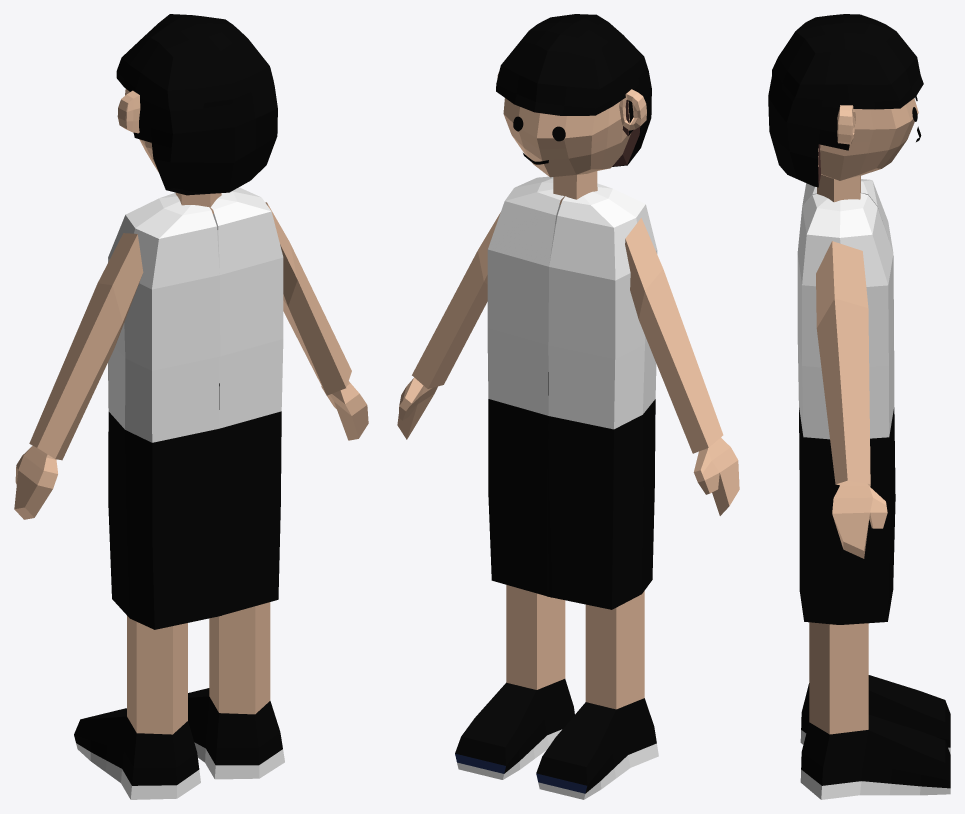
Rendered from student04(touch).fbx.
3 views of the same model, side by side, from view 1: azimuth 30°, elevation 25°; view 2: azimuth 150°, elevation 25°; view 3: azimuth 270°, elevation 25° (orthographic). The views are drawn at different scales.
Visible parts, largest first — view 1: Lec_body, Lec_leg, Lec_hair, Lec_arm, Lec_ear; view 2: Lec_body, Lec_leg, Lec_arm, Lec_hair, Lec_head, Lec_neck, Lec_ear; view 3: Lec_body, Lec_leg, Lec_hair, Lec_arm, Lec_head, Lec_neck, Lec_ear.
Part boxes in pixels (bbox=[...]): Lec_body: bbox=[108, 187, 283, 629]; Lec_leg: bbox=[74, 602, 284, 799]; Lec_hair: bbox=[116, 14, 277, 195]; Lec_arm: bbox=[14, 202, 368, 519]; Lec_ear: bbox=[117, 90, 140, 133]; Lec_body: bbox=[487, 176, 657, 609]; Lec_leg: bbox=[455, 585, 658, 799]; Lec_arm: bbox=[397, 212, 739, 515]; Lec_hair: bbox=[496, 14, 651, 166]; Lec_head: bbox=[503, 98, 640, 177]; Lec_neck: bbox=[553, 171, 597, 204]; Lec_ear: bbox=[497, 72, 646, 130]; Lec_body: bbox=[797, 179, 895, 624]; Lec_leg: bbox=[800, 622, 950, 799]; Lec_hair: bbox=[768, 14, 923, 187]; Lec_arm: bbox=[816, 241, 887, 558]; Lec_head: bbox=[818, 98, 918, 186]; Lec_neck: bbox=[817, 156, 860, 202]; Lec_ear: bbox=[837, 105, 855, 144].
Bounding box in the file's own units: 174 × 80.95 × 362.
